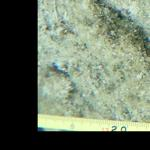dead: (36, 1, 149, 118)
